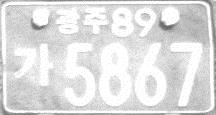5: (62, 41, 97, 108)
6: (134, 41, 168, 108)
7: (168, 40, 203, 108)
8: (96, 40, 134, 108), (110, 5, 135, 37)
9: (133, 6, 157, 38)
가: (11, 40, 55, 87)
광주_O: (54, 5, 110, 35)
